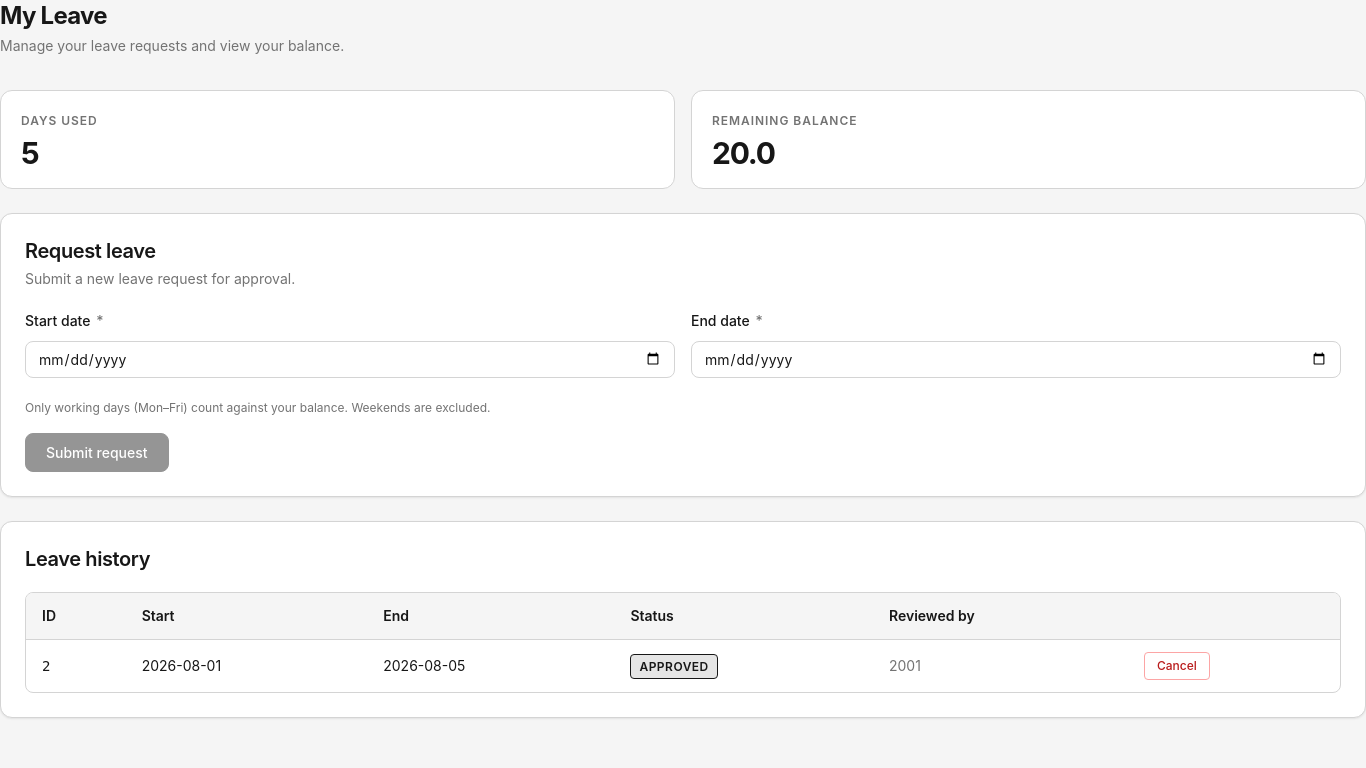
Scenario: MyLeavePage — cancel action › shows balance-refund message for Approved leaves
Step 1. Click the button with aria-label "cancel leave" → (1177, 666), box [1144, 652, 1210, 680]
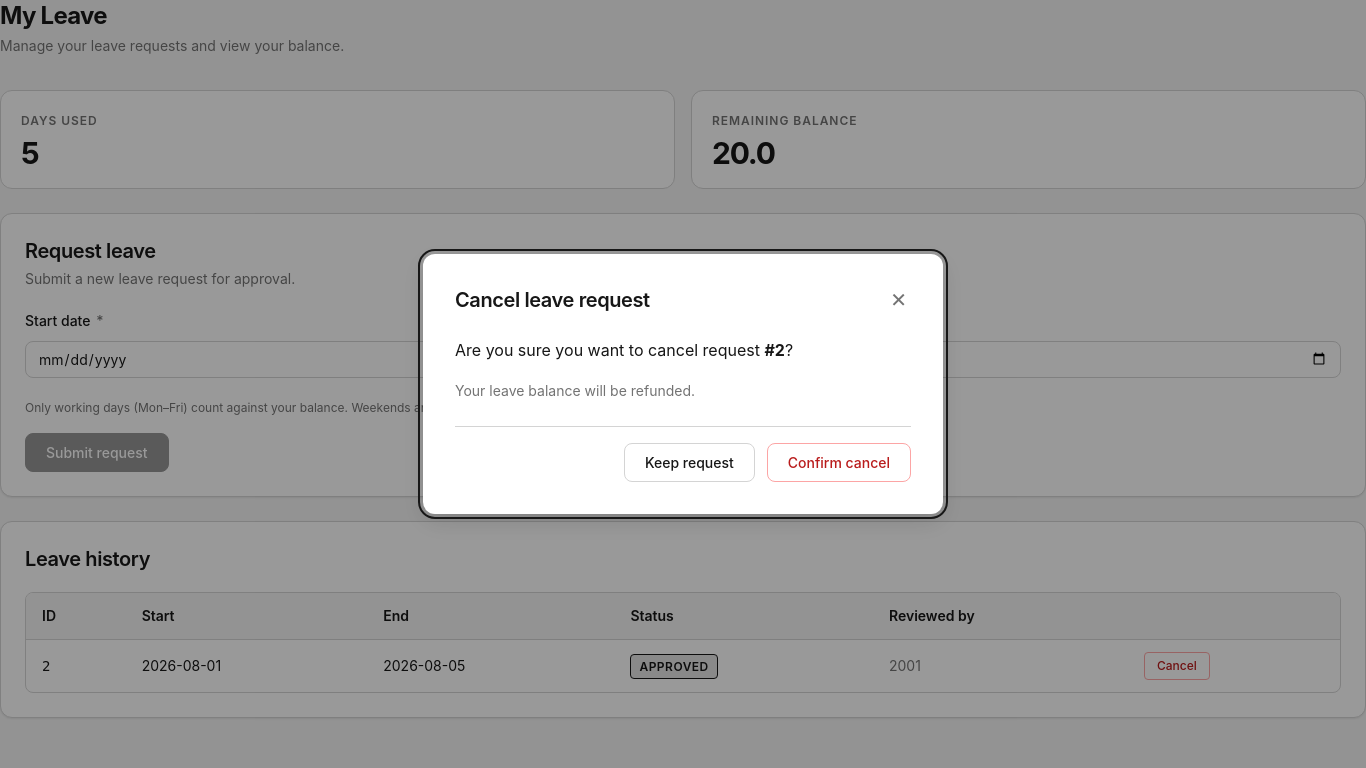
Expected: the text "Your leave balance will be refunded." is shown, [455, 382, 695, 399]
